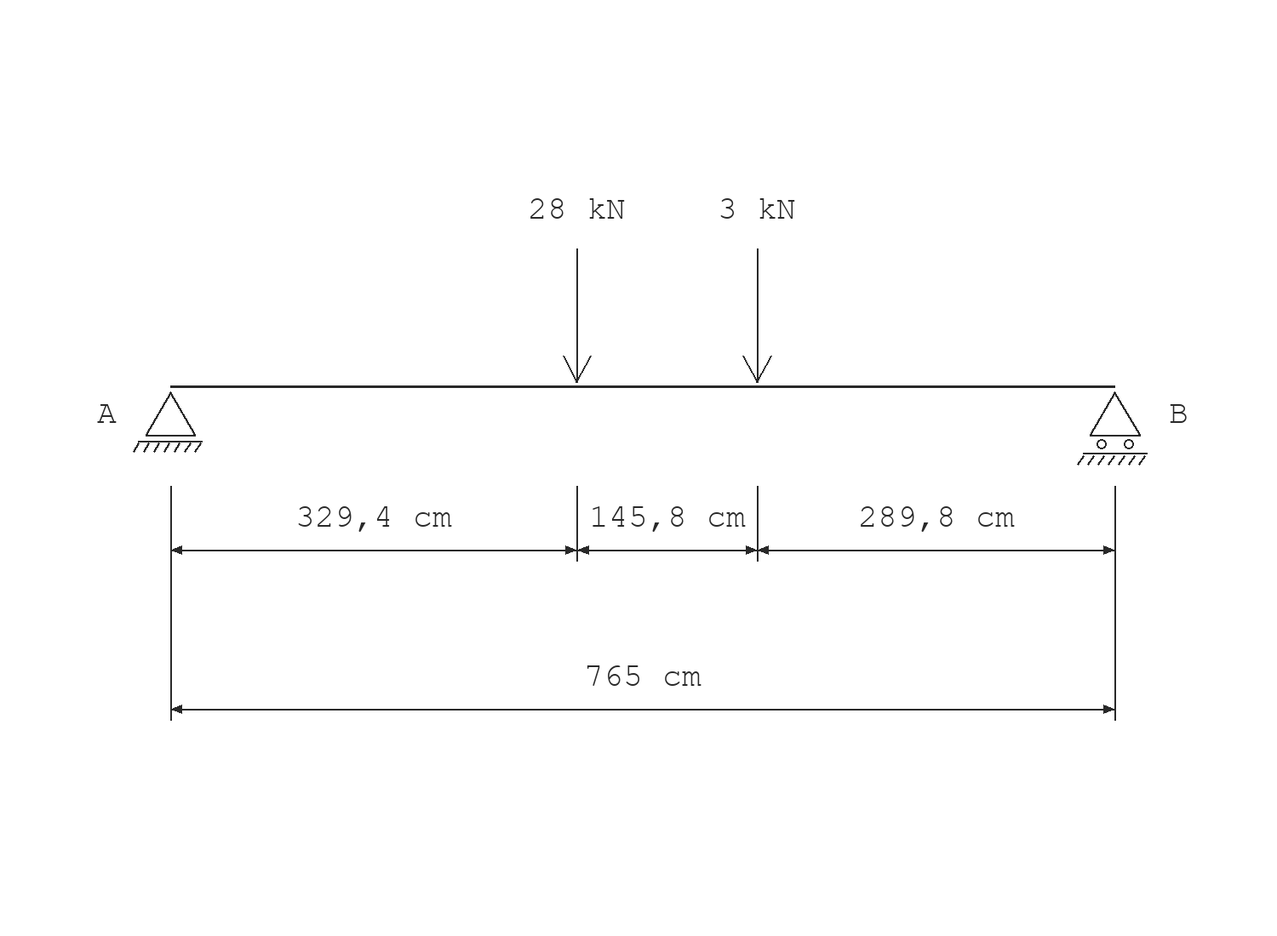pin_support: (133, 391, 203, 453)
point_load: (742, 248, 772, 383), (563, 248, 592, 383)
roller_support: (1077, 391, 1148, 465)
